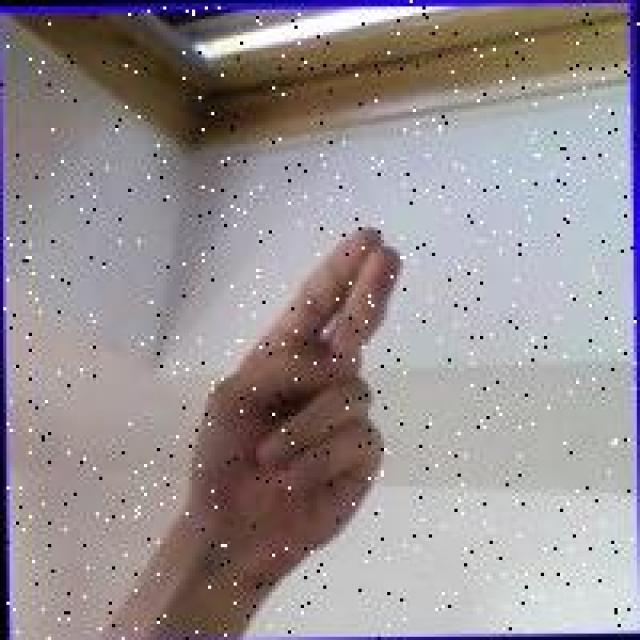H: (176, 220, 413, 586)
